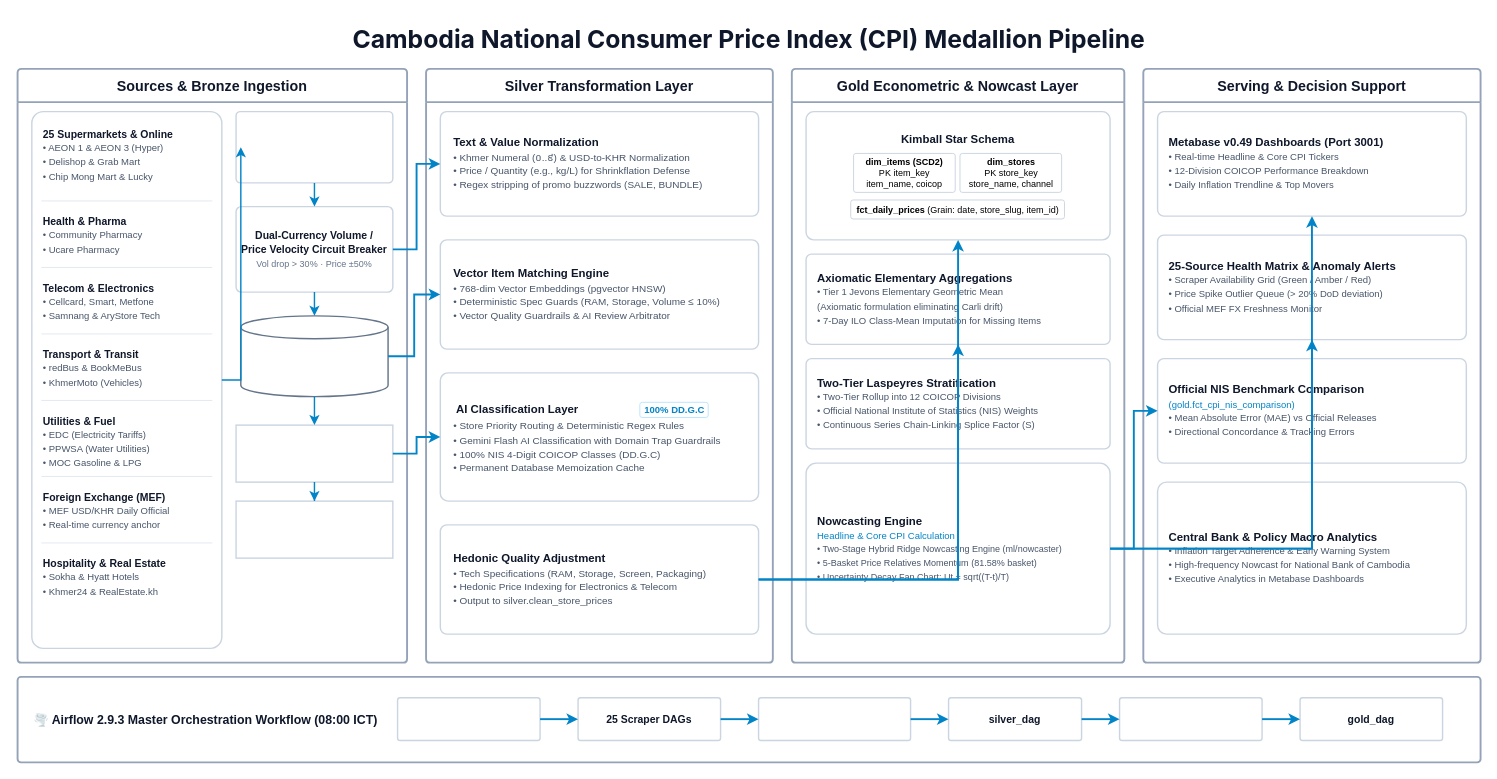
Some shapes in this 1497 by 779 pixel diagram are drawn without their labels. Each missing label, with the centre of its shape:
Bronze Quality Gate: point (834, 719)
cpi_master_dag: point (468, 719)
Data Stream / Scraper Array 25 concurrent workers (UV): point (314, 146)
dual_currency_velocities [store_slug, rolling_med_khr, usd]: point (314, 529)
gold_cpi_dag: point (1190, 719)
PostgreSQL 16 Bronze Tables Partitioned Lakehouse: point (314, 356)
raw_prices_main [store, source, date, url, raw_json]: point (314, 453)
